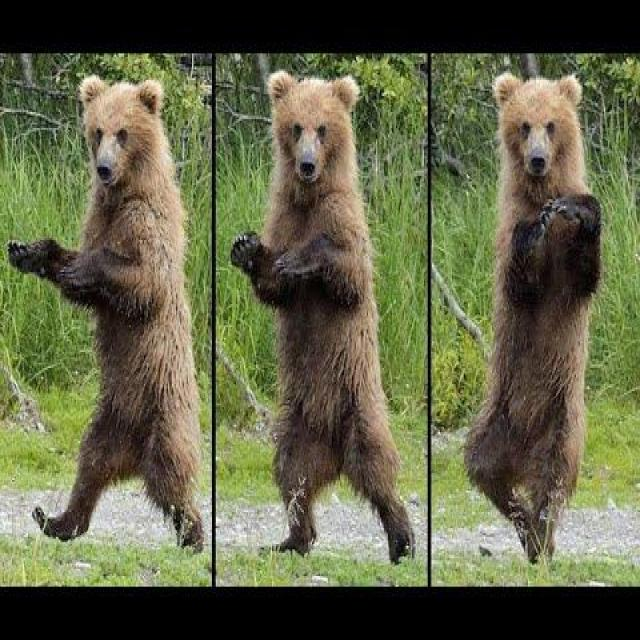Bear: (7, 76, 205, 553), (231, 71, 415, 564), (464, 75, 605, 565)
